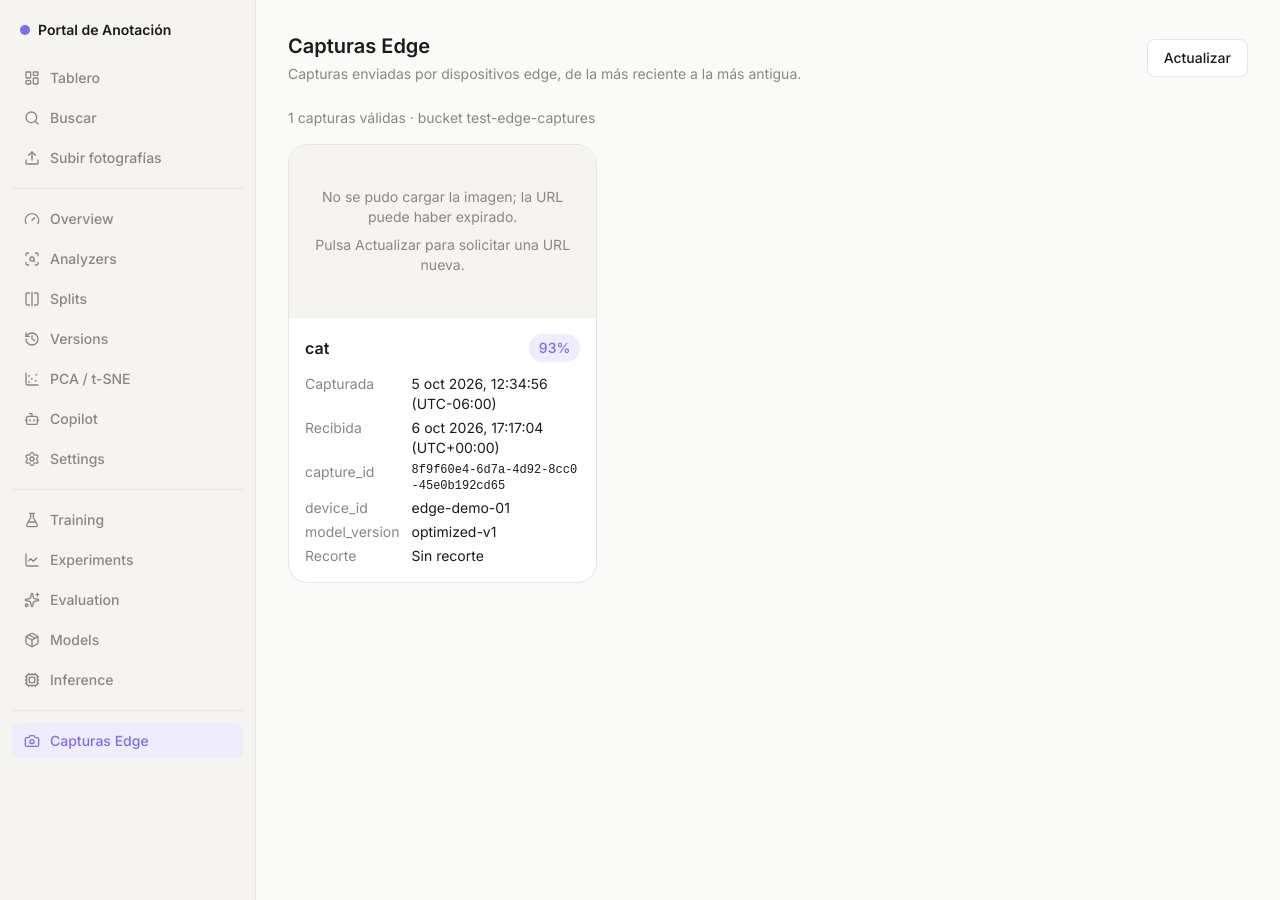
Test case: P4-08 Capturas Edge › explica un fallo de imagen sin atribuirle causa y recupera la URL al actualizar
Expected: the text "No se pudo cargar la imagen; la URL puede haber expirado." is shown, [309, 187, 576, 227]
Step 1. Click the button "Actualizar" → (1197, 58), box [1147, 39, 1248, 77]
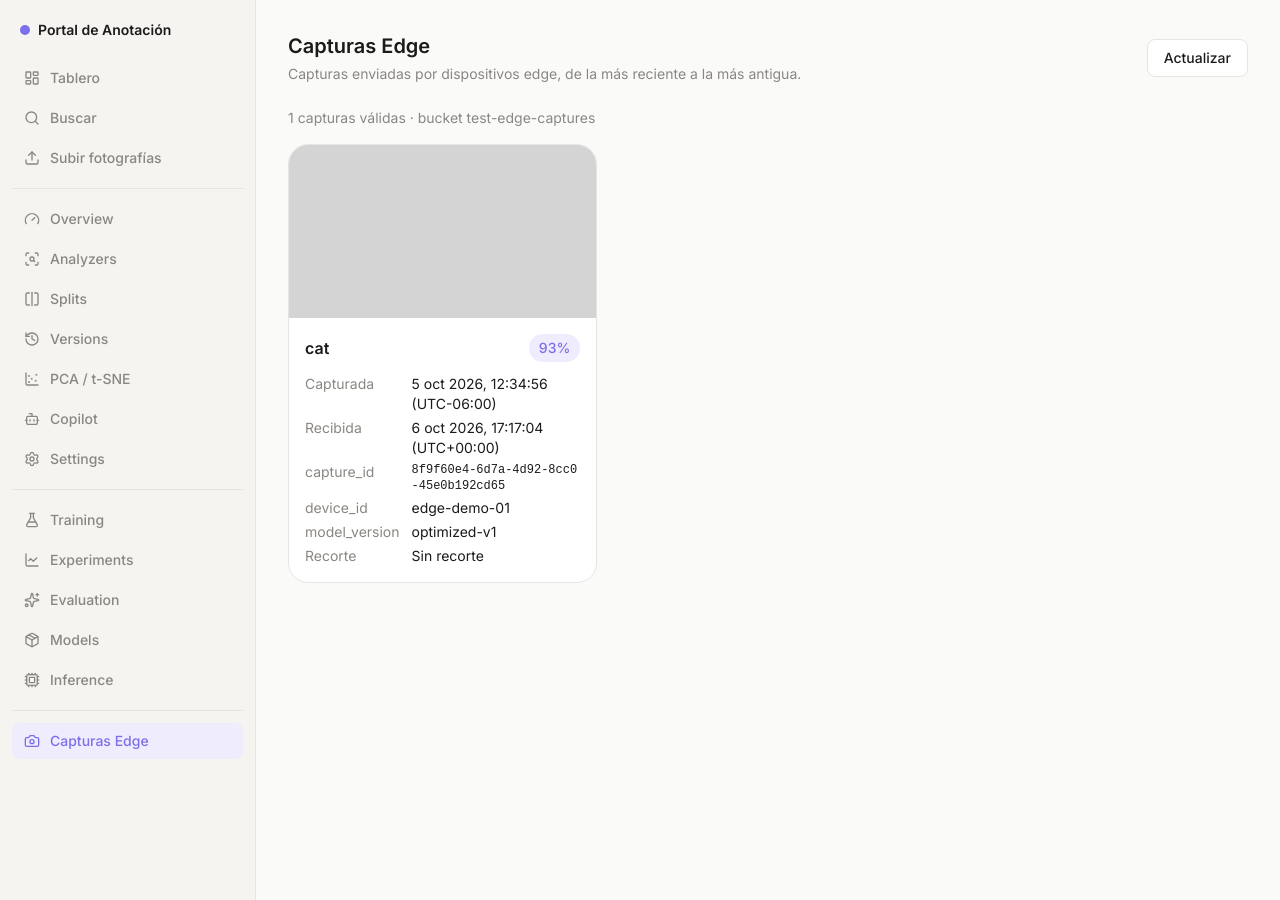
Expected: the text "No se pudo cargar la imagen; la URL puede haber expirado." is gone
